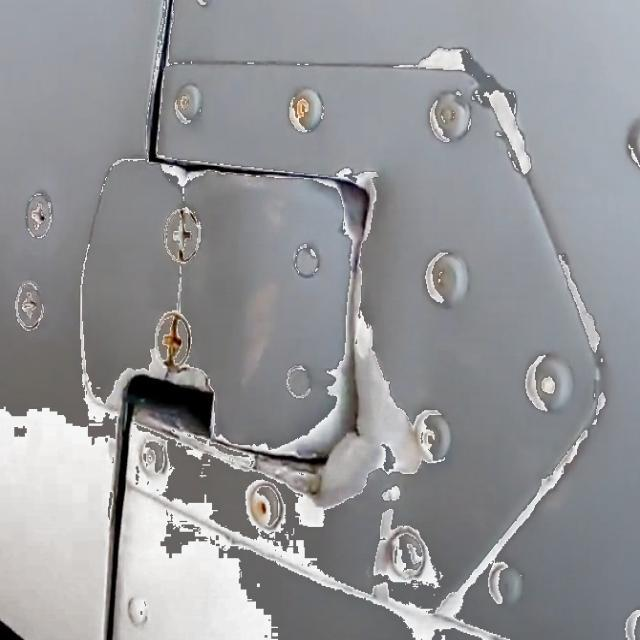crack: (159, 257, 194, 313)
